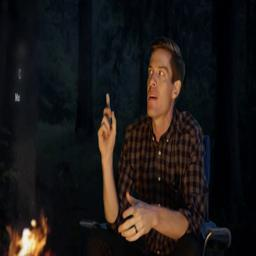fire: (5, 214, 50, 256)
